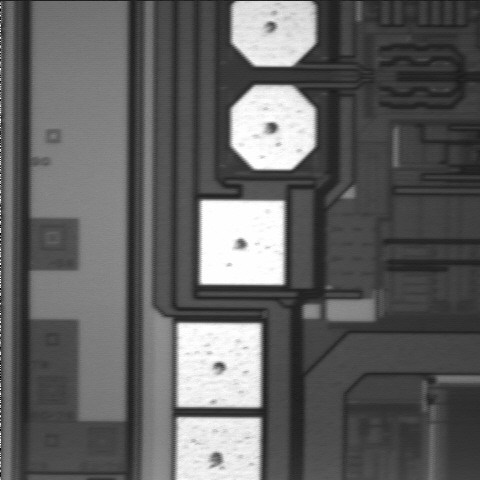pad: (231, 85, 315, 170), (200, 200, 284, 285), (177, 323, 261, 407)
